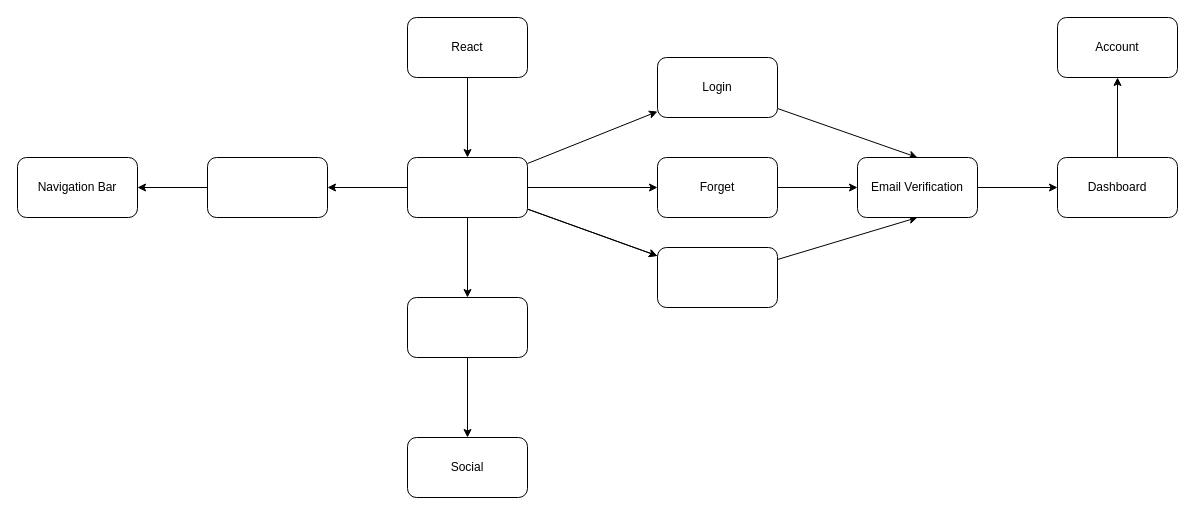
Some shapes in this 1195 by 515 pixel diagram are drawn without their labels. Here are the shapes that lost their labels. From the top down, the centre of each, then its label:
(x=267, y=187): Header
(x=467, y=187): Component
(x=717, y=277): Signup
(x=467, y=327): Footer
